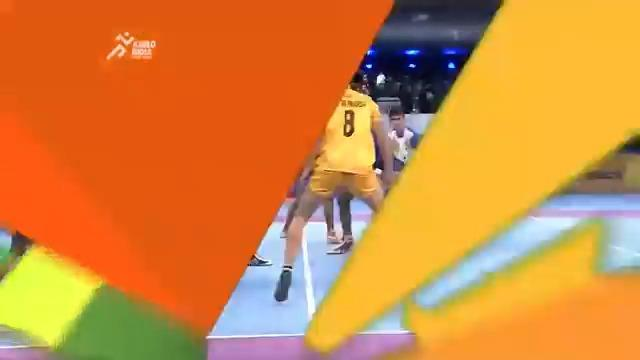Raider: (272, 69, 395, 301)
